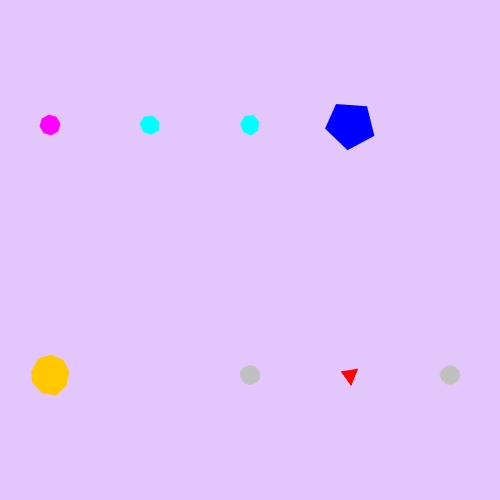decagon: (235, 361, 265, 389), (435, 361, 465, 389)
heptagon: (136, 111, 165, 139), (236, 111, 265, 139)
nonagon: (26, 352, 74, 398)
octagon: (35, 110, 65, 140)
pentagon: (323, 98, 378, 153)
triangle: (338, 362, 363, 388)
